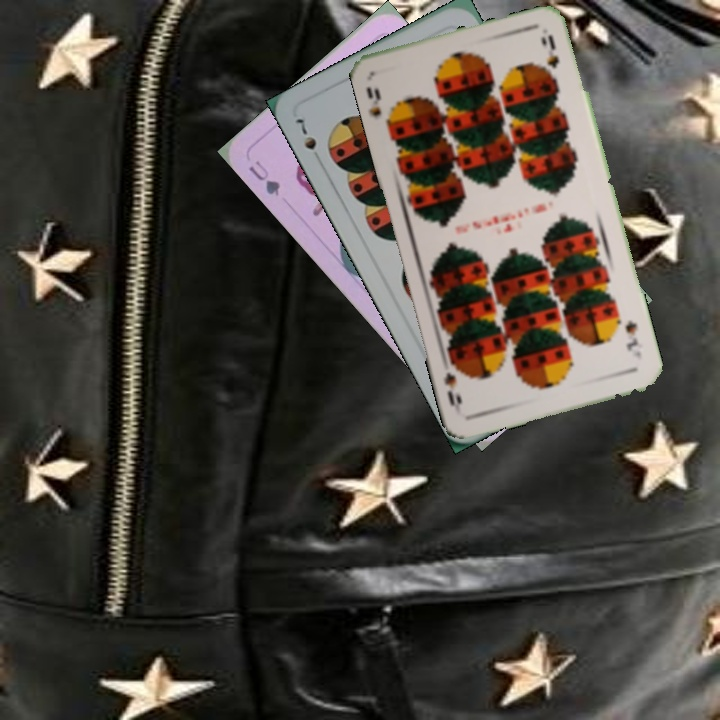GU: (244, 156, 283, 199)
S7: (291, 114, 320, 153)
S9: (362, 82, 397, 133), (621, 316, 645, 362)
